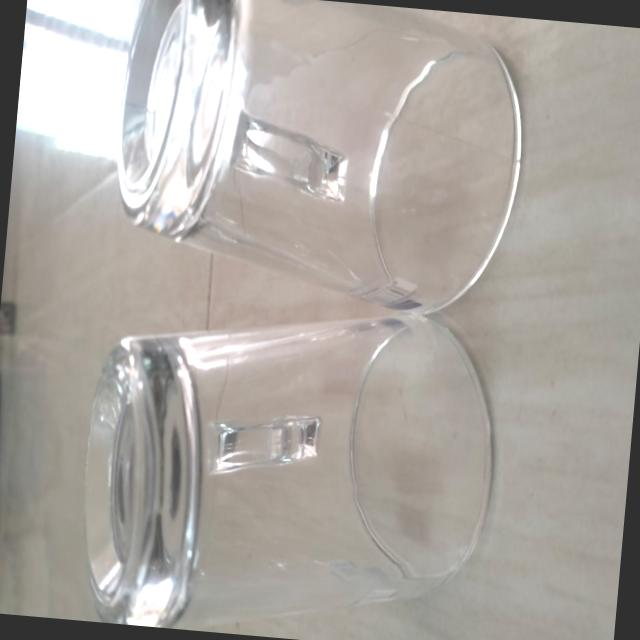glass-VX4N: (64, 284, 513, 640), (103, 0, 539, 327)
